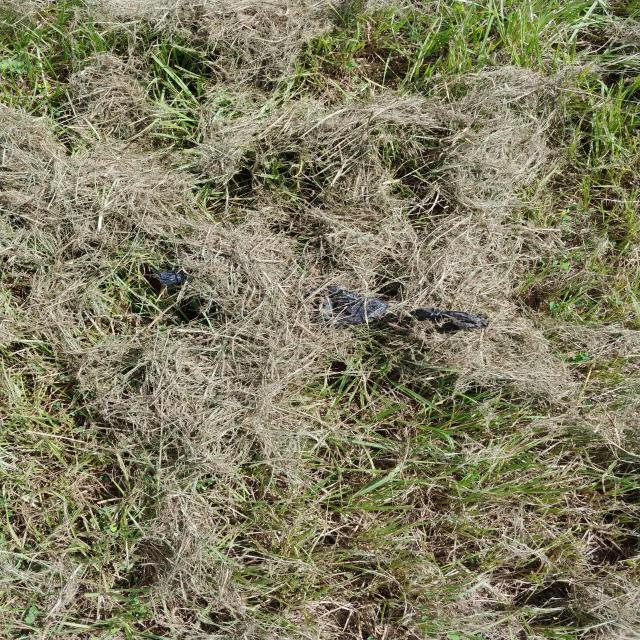litter: (111, 248, 499, 350)
